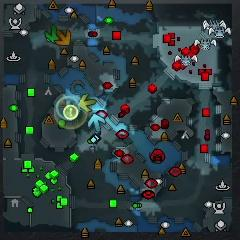x2: (78, 92, 97, 112)
x3: (87, 114, 105, 132)
x4: (45, 25, 61, 43)
x5: (55, 29, 71, 46)
